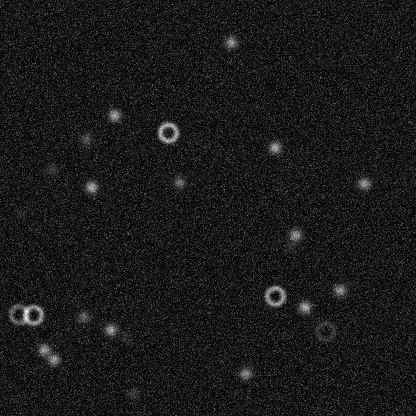Ring: (313, 319, 337, 343), (21, 302, 45, 326), (6, 302, 30, 326), (156, 120, 180, 144), (262, 283, 286, 307)
Spot: (78, 130, 94, 146), (171, 174, 187, 190), (287, 226, 303, 242), (75, 308, 91, 324), (45, 351, 61, 367), (83, 179, 99, 195), (102, 321, 118, 337), (266, 139, 282, 155), (125, 384, 141, 400), (106, 107, 122, 123), (117, 328, 133, 344), (237, 365, 253, 381), (223, 34, 239, 50), (356, 175, 372, 191), (332, 281, 348, 297), (12, 205, 28, 221), (282, 238, 298, 254), (296, 298, 312, 314), (35, 341, 51, 357), (43, 160, 59, 176)
